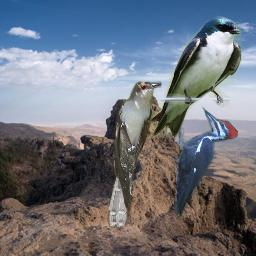Cuckoo: (107, 79, 162, 227)
Swallow: (148, 16, 242, 138)
Woodpecker: (172, 105, 238, 221)
